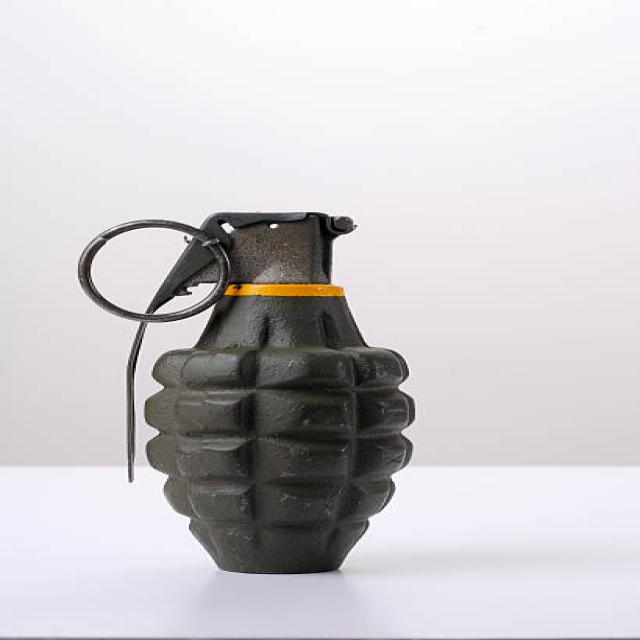grenade: (79, 196, 428, 584)
